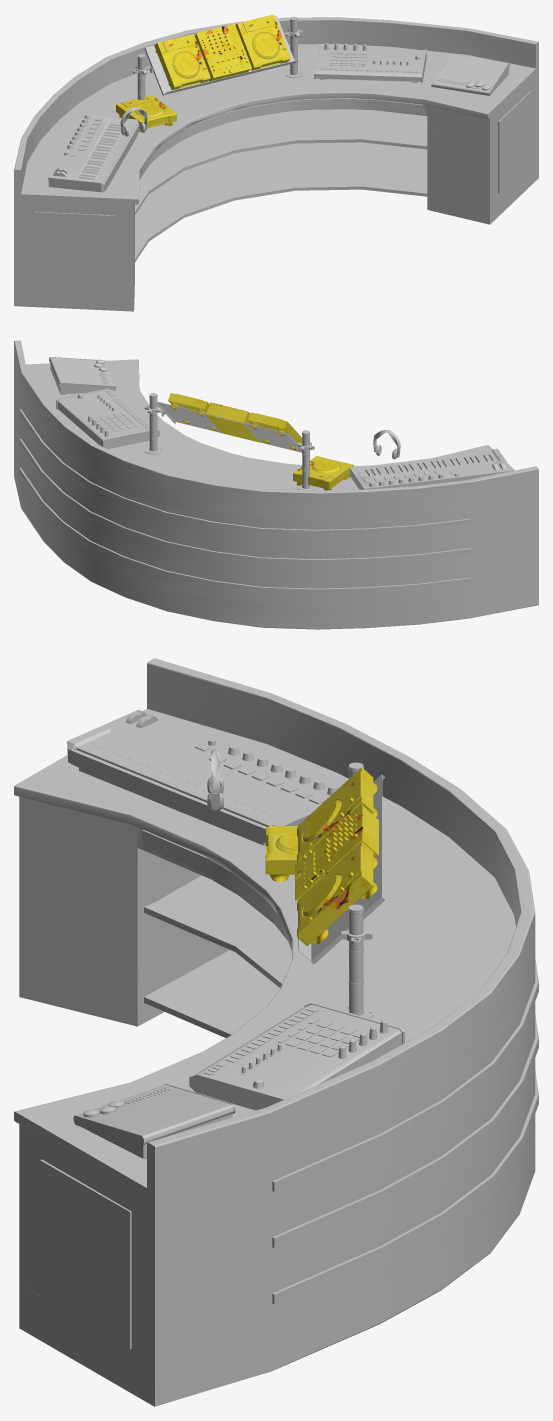
Rendered from DJBooth 2.fbx.
3 renders of one model, top to bottom at view 1: azimuth 30°, elevation 25°; view 2: azimuth 150°, elevation 25°; view 3: azimuth 270°, elevation 25°, orthographic. The views are drawn at different scales.
Parts seen in each view (by area): view 1: DJTable01_10, DJMidiKeyboard01_9, DJControl02_7, DMXController01_8, DJControlHolder01_14, DJControl01_2_12, DJControl01_1_13, DJControl01_1 (1)_15, DJControl1_2, Headphones01_11; view 2: DJTable01_10, DJMidiKeyboard01_9, DJControl02_7, DJControlHolder01_14, DMXController01_8, DJControl01_2_12, DJControl1_2, DJControl01_1_13, DJControl01_1 (1)_15, Headphones01_11; view 3: DJTable01_10, DJMidiKeyboard01_9, DJControl02_7, DMXController01_8, DJControl01_1 (1)_15, DJControlHolder01_14, DJControl01_2_12, DJControl01_1_13, DJControl1_2.
Boxes of the visible parts, x1,y1,x2,y2 form: DJTable01_10: (14, 17, 538, 311); DJMidiKeyboard01_9: (48, 114, 139, 192); DJControl02_7: (314, 43, 426, 82); DMXController01_8: (431, 53, 509, 96); DJControlHolder01_14: (132, 15, 303, 100); DJControl01_2_12: (195, 23, 252, 81); DJControl01_1_13: (154, 34, 210, 90); DJControl01_1 (1)_15: (235, 14, 290, 70); DJControl1_2: (116, 95, 176, 132); Headphones01_11: (120, 107, 147, 136); DJTable01_10: (14, 340, 538, 629); DJMidiKeyboard01_9: (349, 448, 512, 489); DJControl02_7: (56, 388, 159, 448); DJControlHolder01_14: (144, 393, 315, 490); DMXController01_8: (49, 357, 116, 394); DJControl01_2_12: (205, 402, 260, 442); DJControl1_2: (293, 456, 353, 490); DJControl01_1_13: (248, 412, 302, 450); DJControl01_1 (1)_15: (168, 393, 216, 430); Headphones01_11: (373, 430, 400, 459); DJTable01_10: (14, 658, 538, 1406); DJMidiKeyboard01_9: (67, 709, 337, 845); DJControl02_7: (189, 1002, 404, 1110); DMXController01_8: (73, 1083, 235, 1158); DJControl01_1 (1)_15: (297, 842, 377, 945); DJControlHolder01_14: (298, 762, 385, 1018); DJControl01_2_12: (294, 803, 378, 900); DJControl01_1_13: (297, 767, 377, 862); DJControl1_2: (265, 826, 297, 881).
Size of the model in its own units: 440 by 141 by 200.
